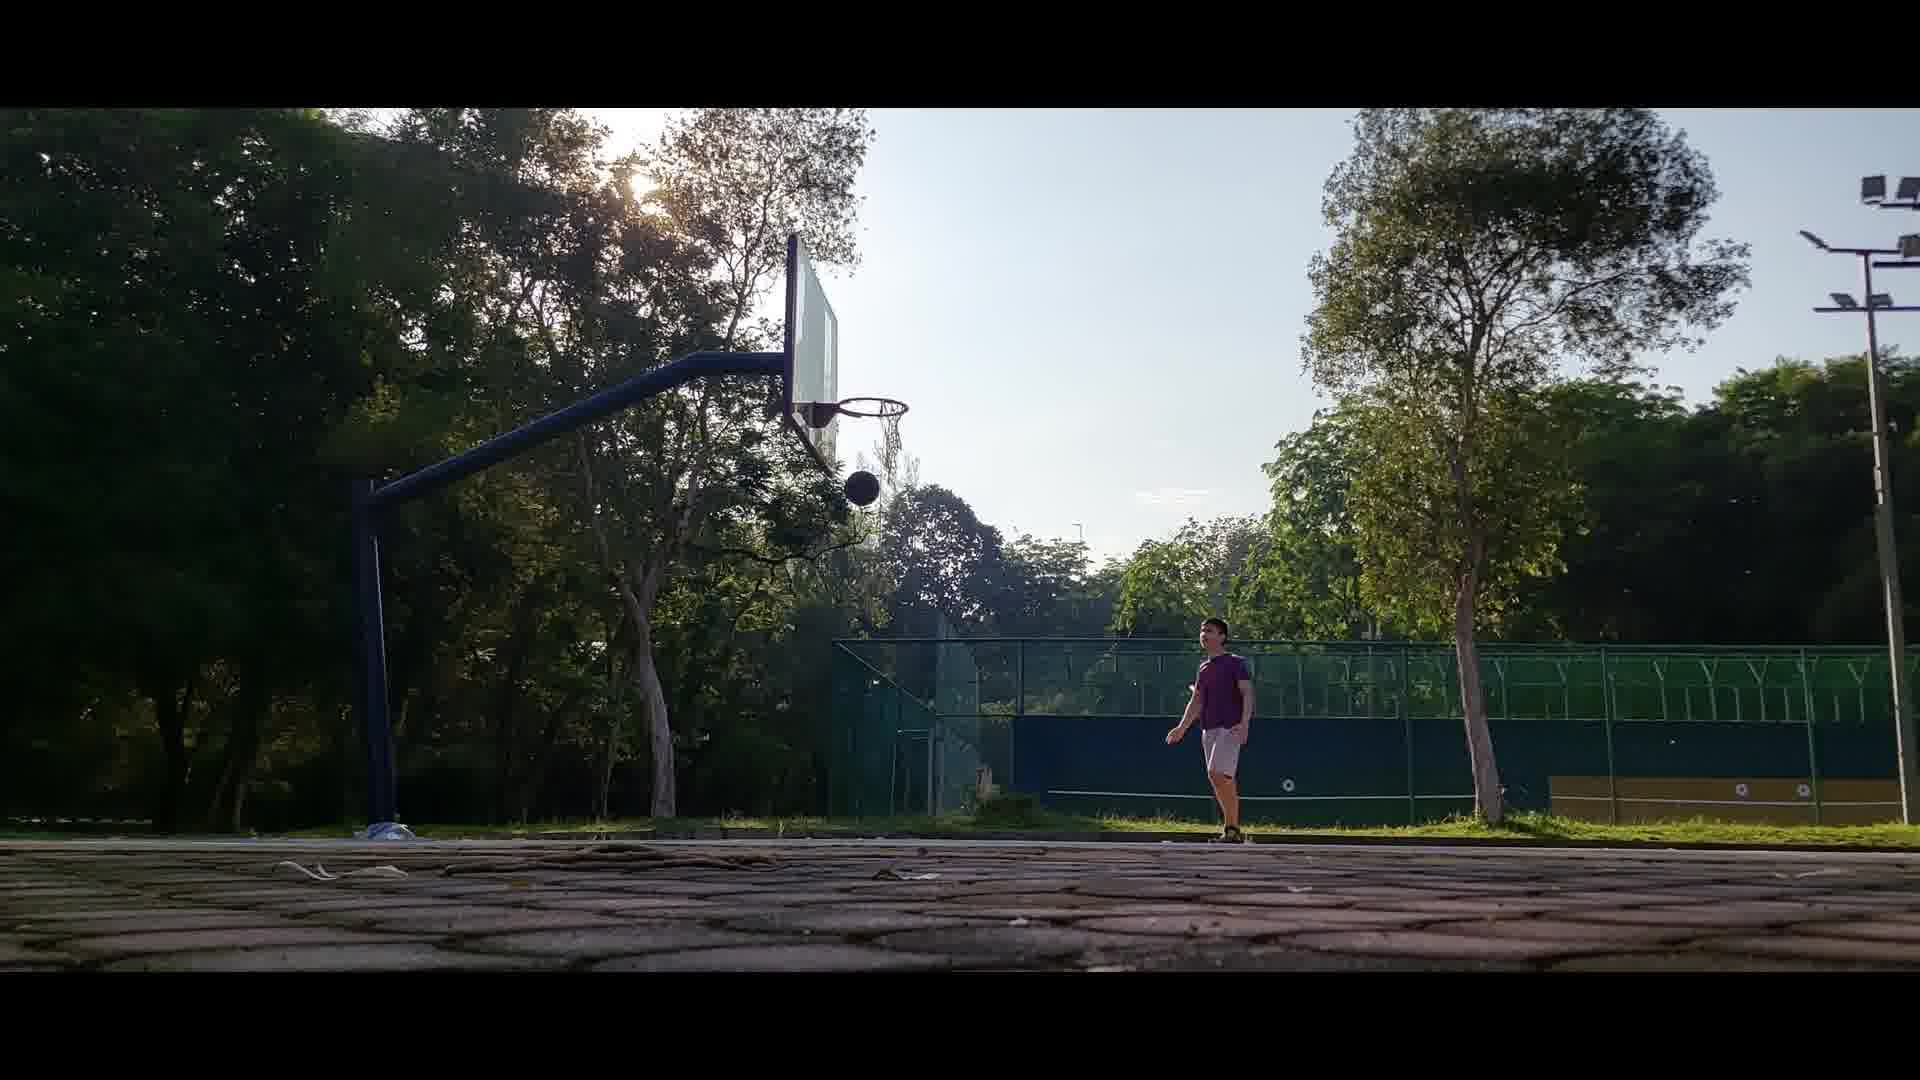Basketball: (848, 466, 877, 498)
